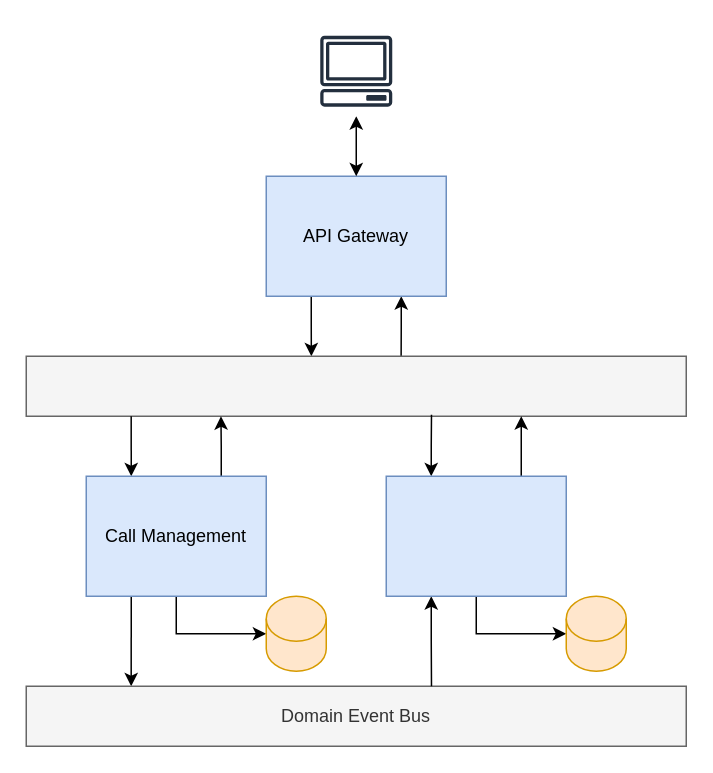
The diagram is 713 pixels wide and 773 high, and some of its shapes have lost their labels. Each missing label, with the centre of its shape:
"Call Statistics" belongs at point (475, 535).
"Communication Bus" belongs at point (355, 385).
